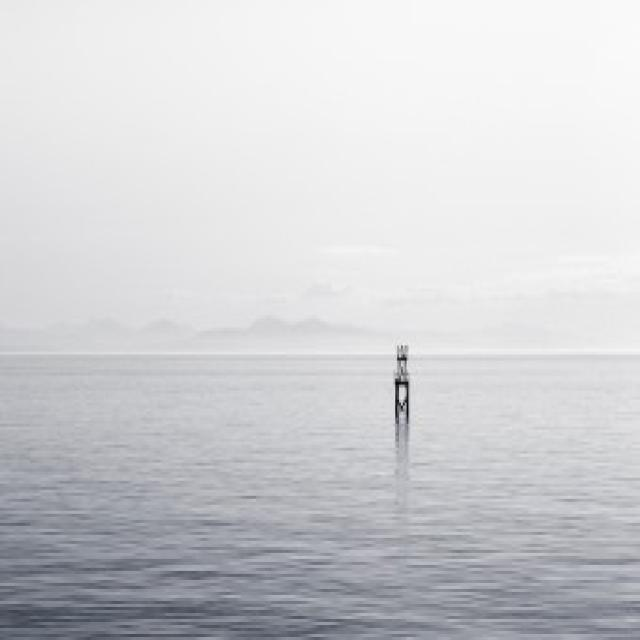Buoy: (388, 337, 423, 419)
